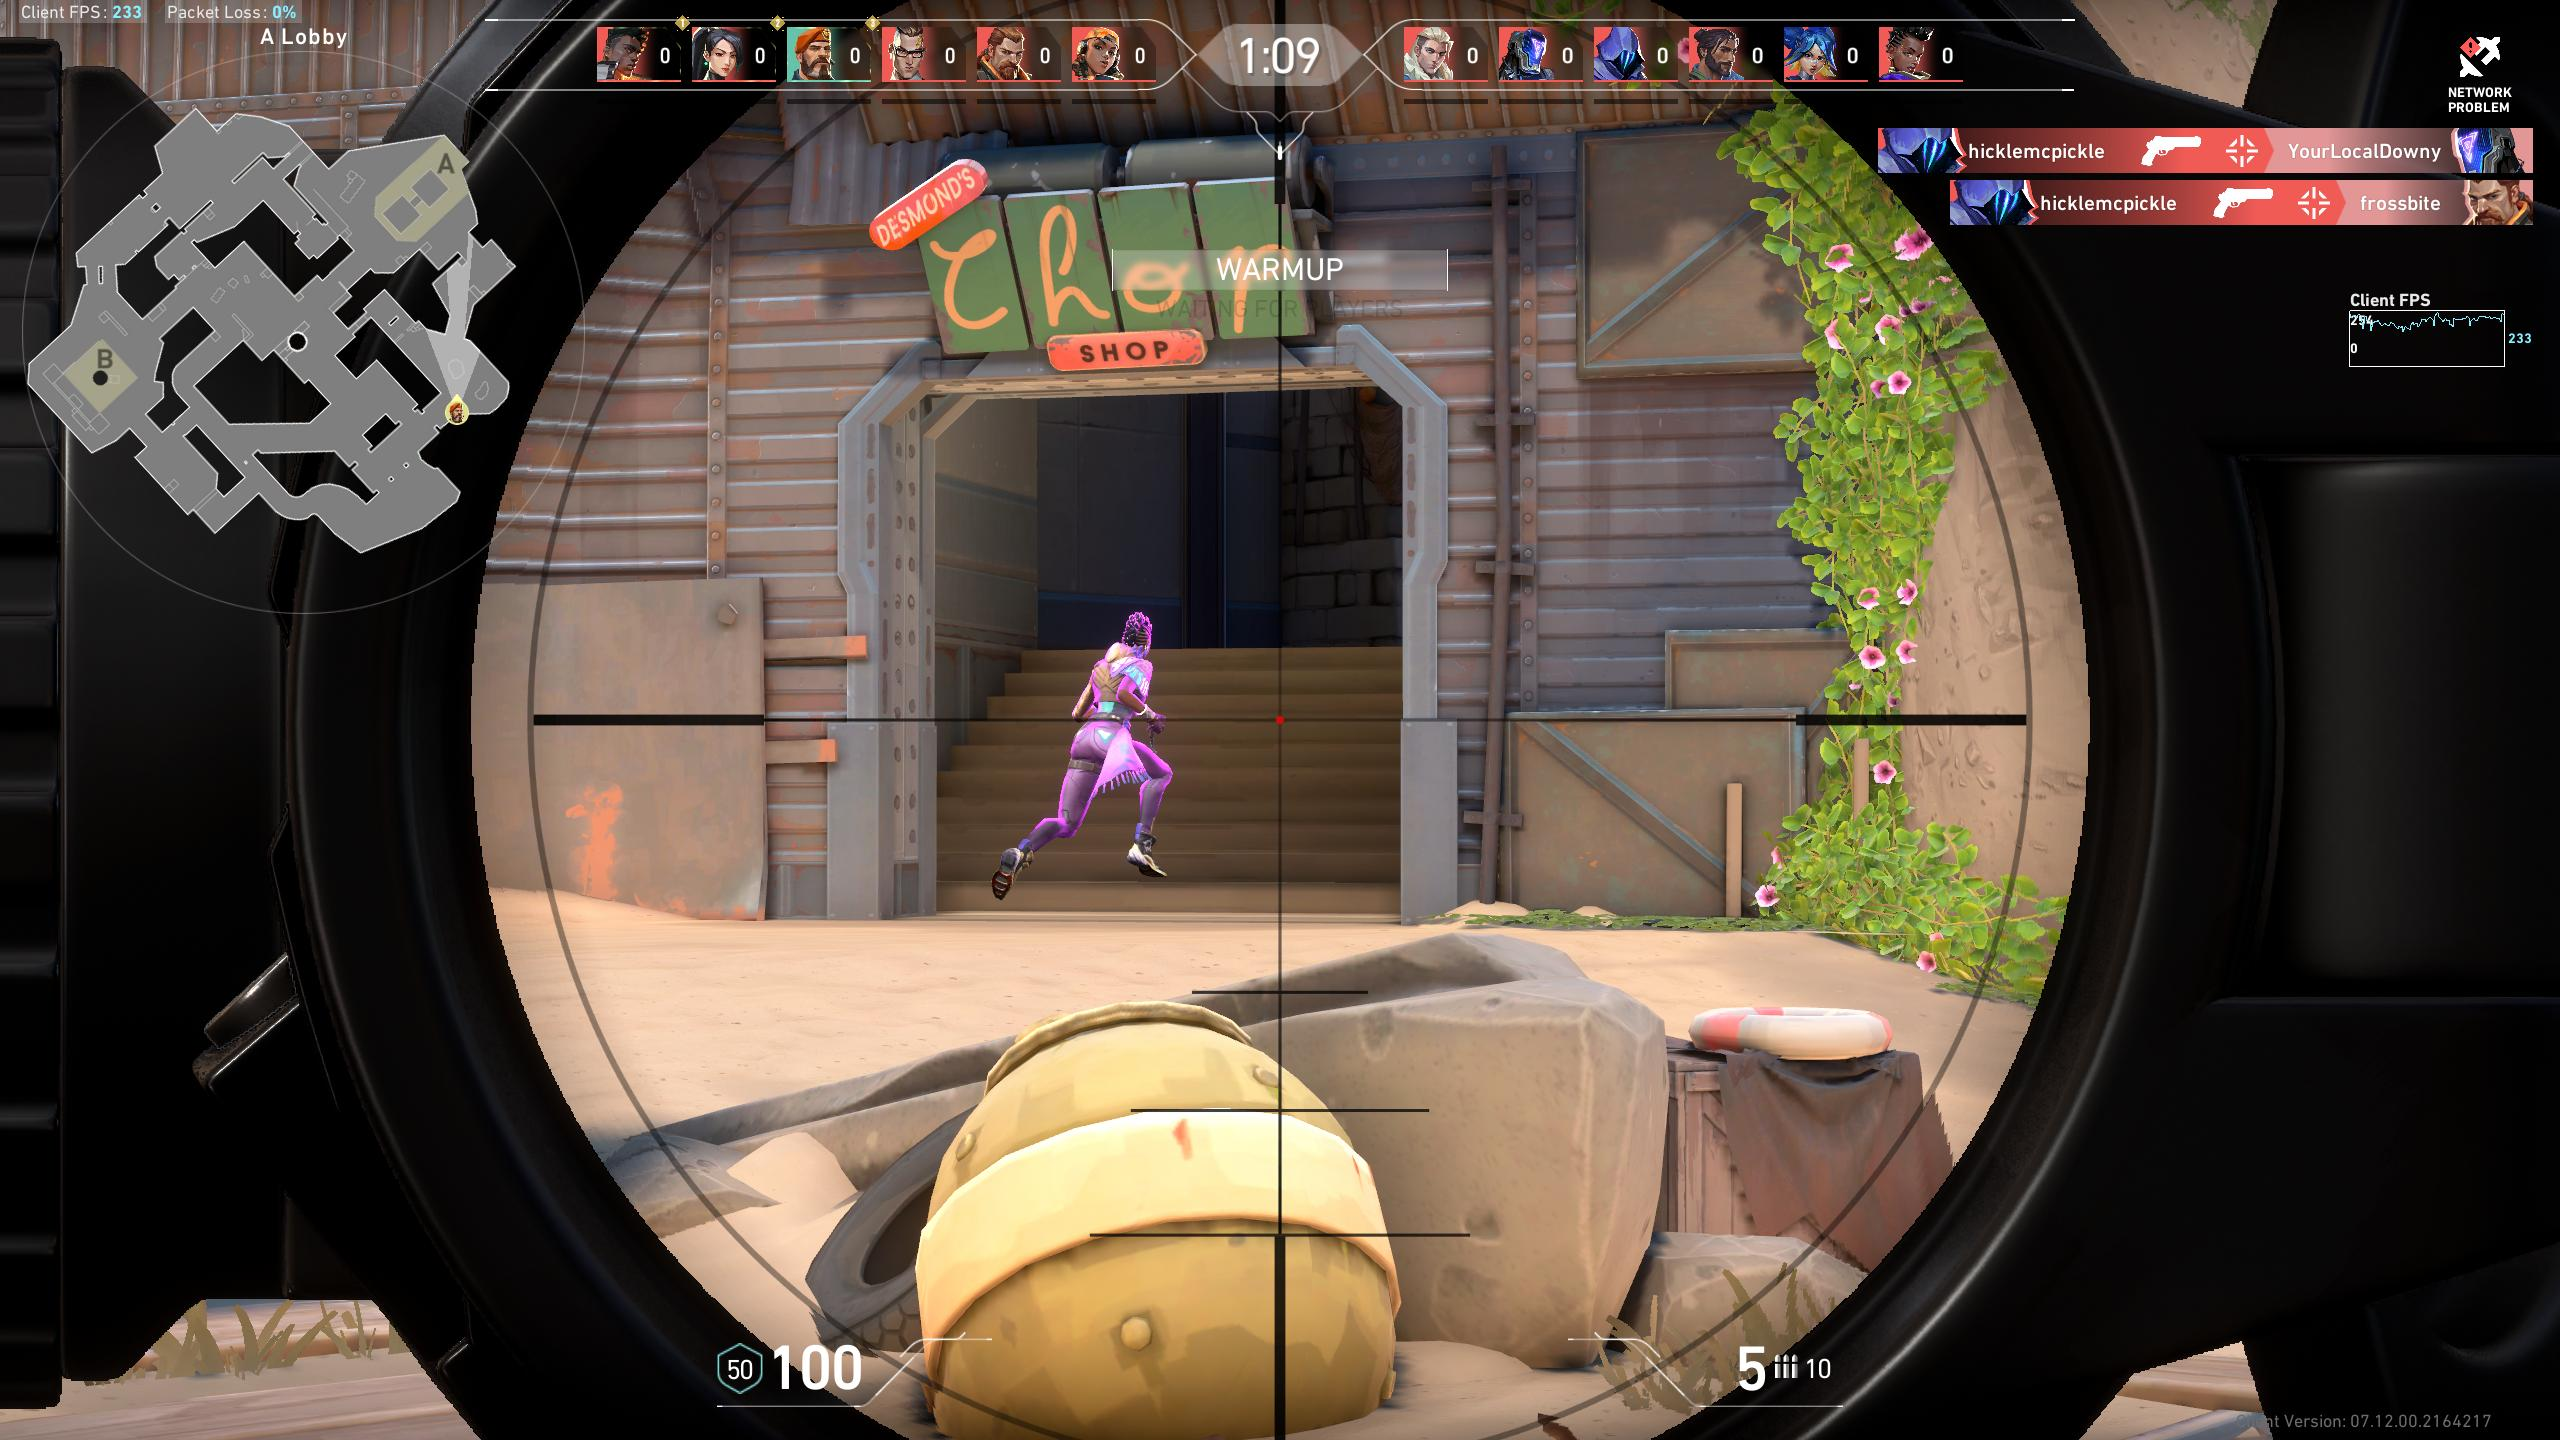enemyBody: (1090, 659, 1138, 767)
enemyHead: (1127, 607, 1159, 658)
